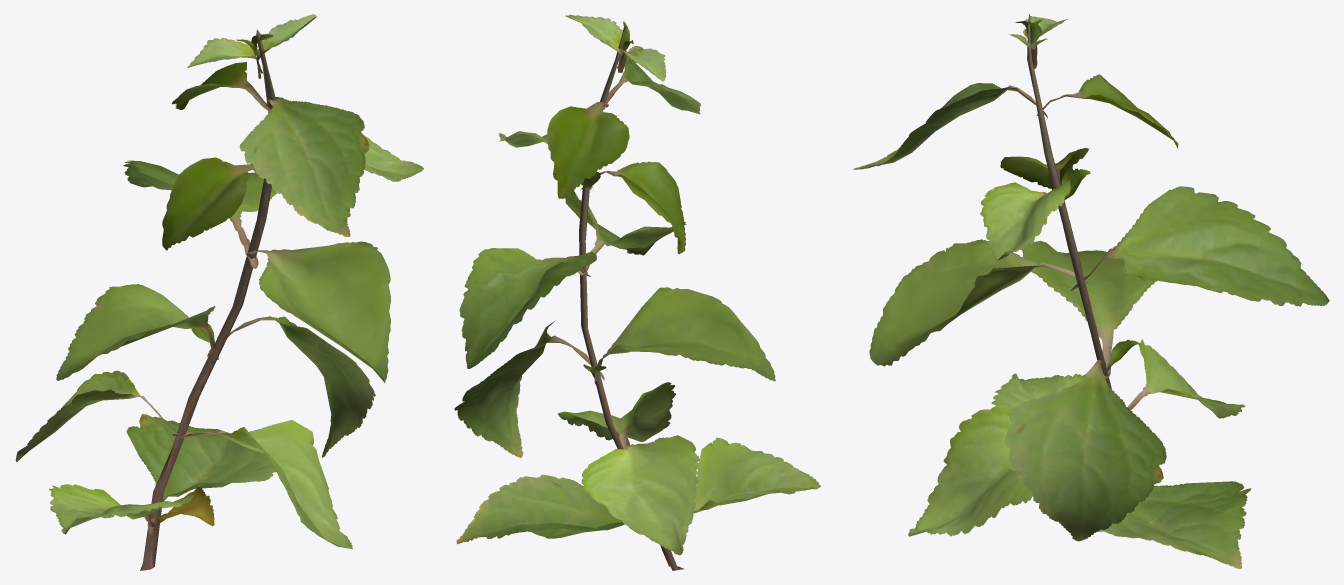
The picture shows the model from 3 angles, left to right: view 1: azimuth 30°, elevation 25°; view 2: azimuth 150°, elevation 25°; view 3: azimuth 270°, elevation 25°; orthographic projection. The views are drawn at different scales.
Parts seen in each view (by area): view 1: shrub_01__d_lod1; view 2: shrub_01__d_lod1; view 3: shrub_01__d_lod1.
Part boxes in pixels (x1,y1,x2,y2): shrub_01__d_lod1: [15, 14, 423, 570]; shrub_01__d_lod1: [454, 14, 820, 570]; shrub_01__d_lod1: [853, 14, 1329, 568].
Size of the model in its own units: 0.1386 by 0.2015 by 0.157.
1 material, 1 textured.
